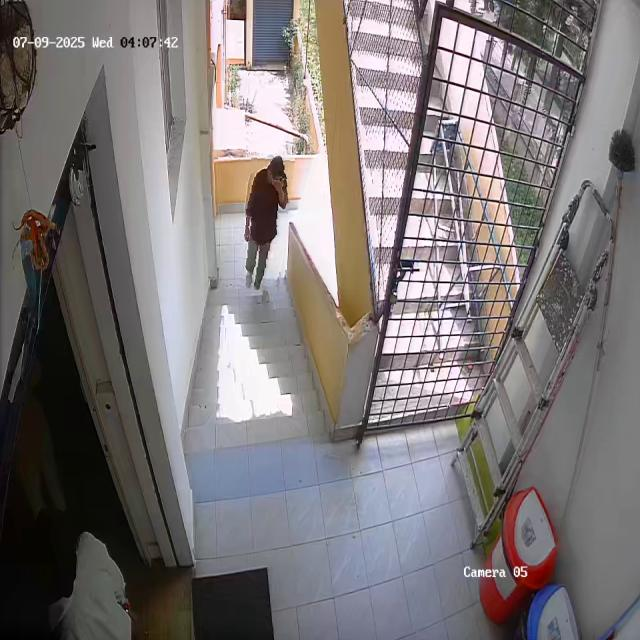person: (239, 153, 291, 291)
